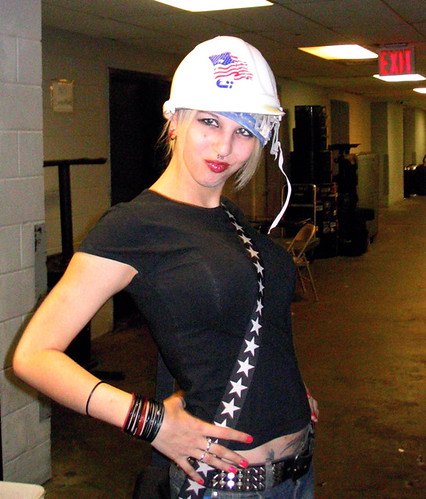person hardhat: (93, 26, 352, 499)
